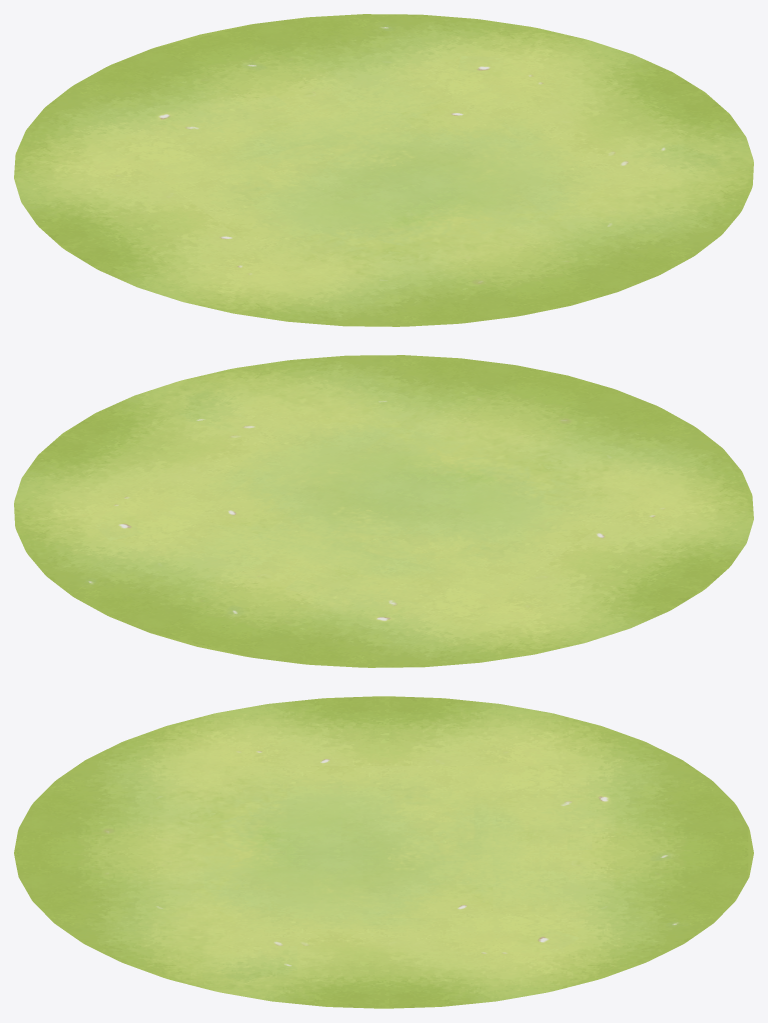
File: standardterrain_1.FBX
The picture shows the model from 3 angles, top to bottom: view 1: azimuth 30°, elevation 25°; view 2: azimuth 150°, elevation 25°; view 3: azimuth 270°, elevation 25°; orthographic projection.
Visible parts, largest first — view 1: 1, 2; view 2: 1, 2; view 3: 1, 2.
Part boxes in pixels (x1,y1,x2,y2): 1: (18, 16, 749, 325); 2: (14, 14, 753, 326); 1: (18, 357, 749, 666); 2: (14, 355, 753, 667); 1: (56, 714, 711, 990); 2: (14, 696, 753, 1008).
Size of the model in its own units: 6.27 by 7.43e-07 by 6.27.
1 material, 1 textured.
